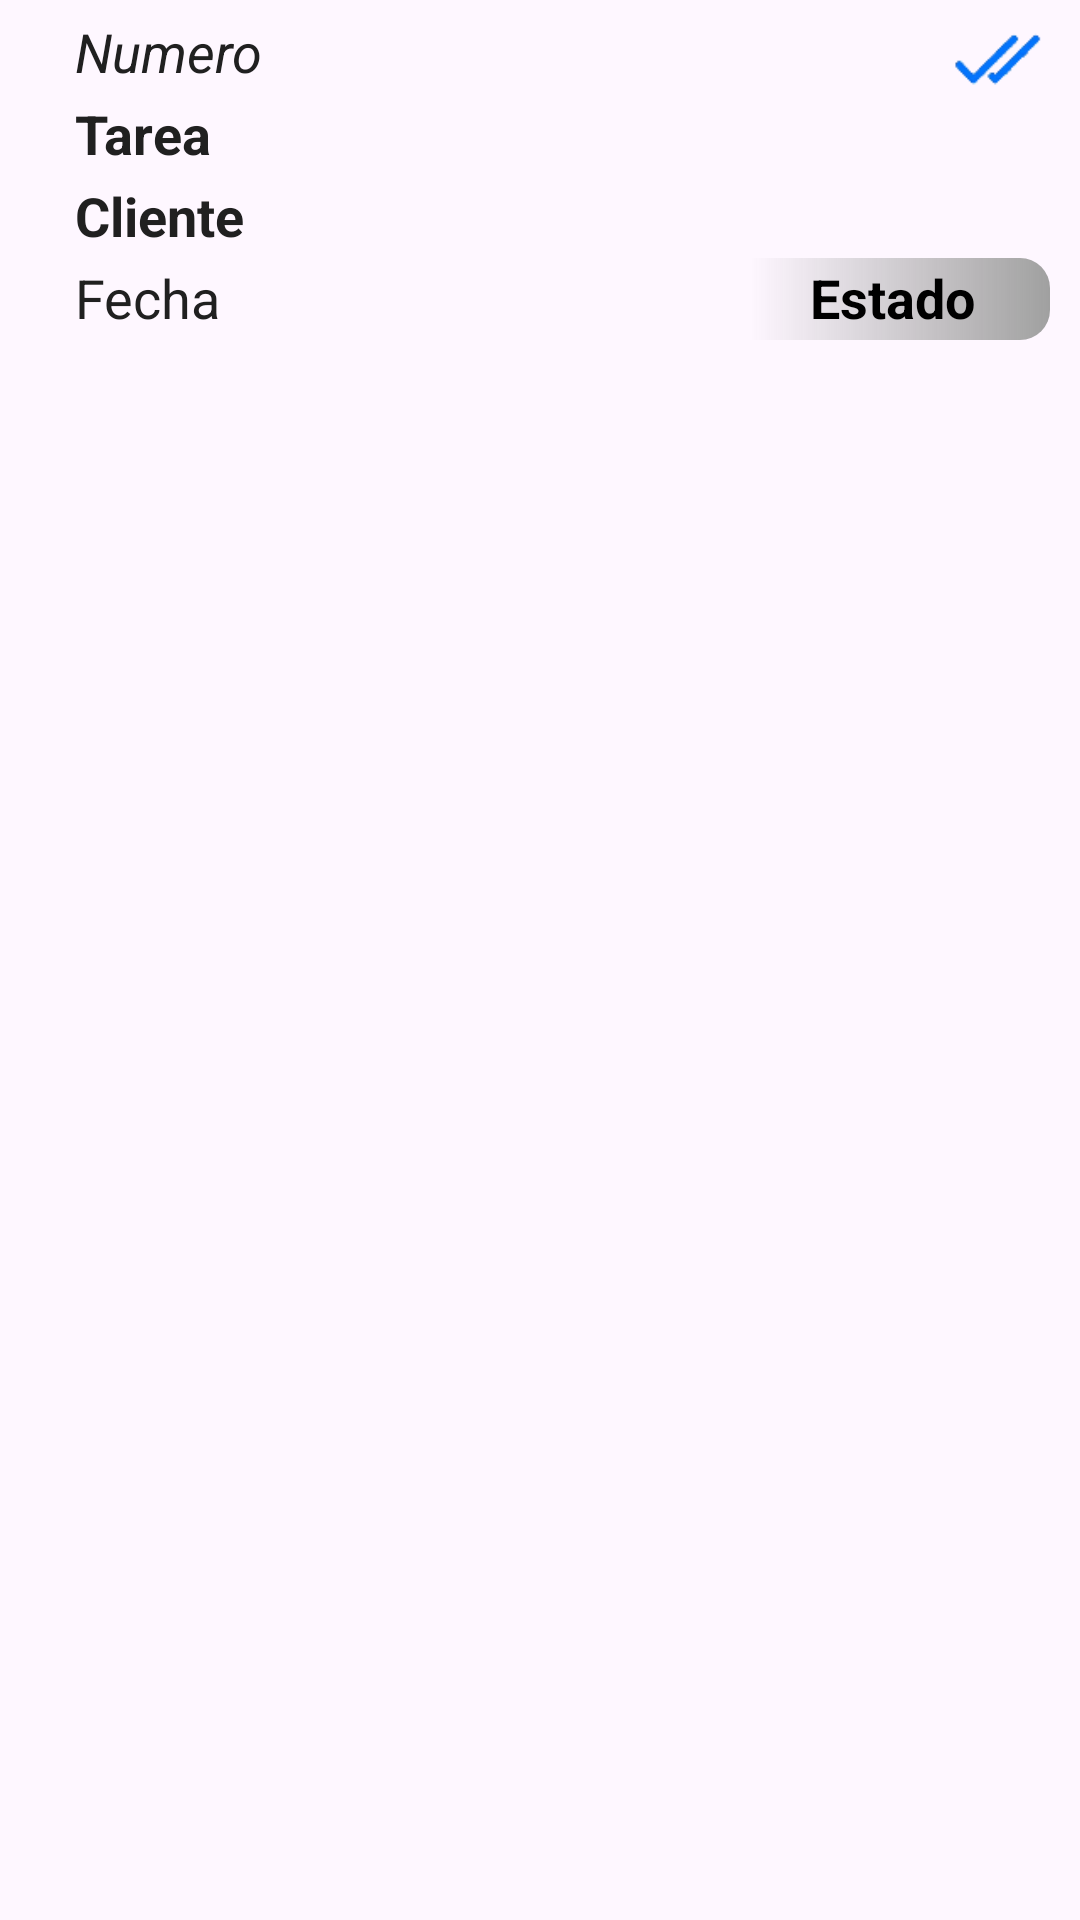

Where to tap for icons on this 1080px×1920px app screen, as point (x, y):
check double: point (998, 60)
